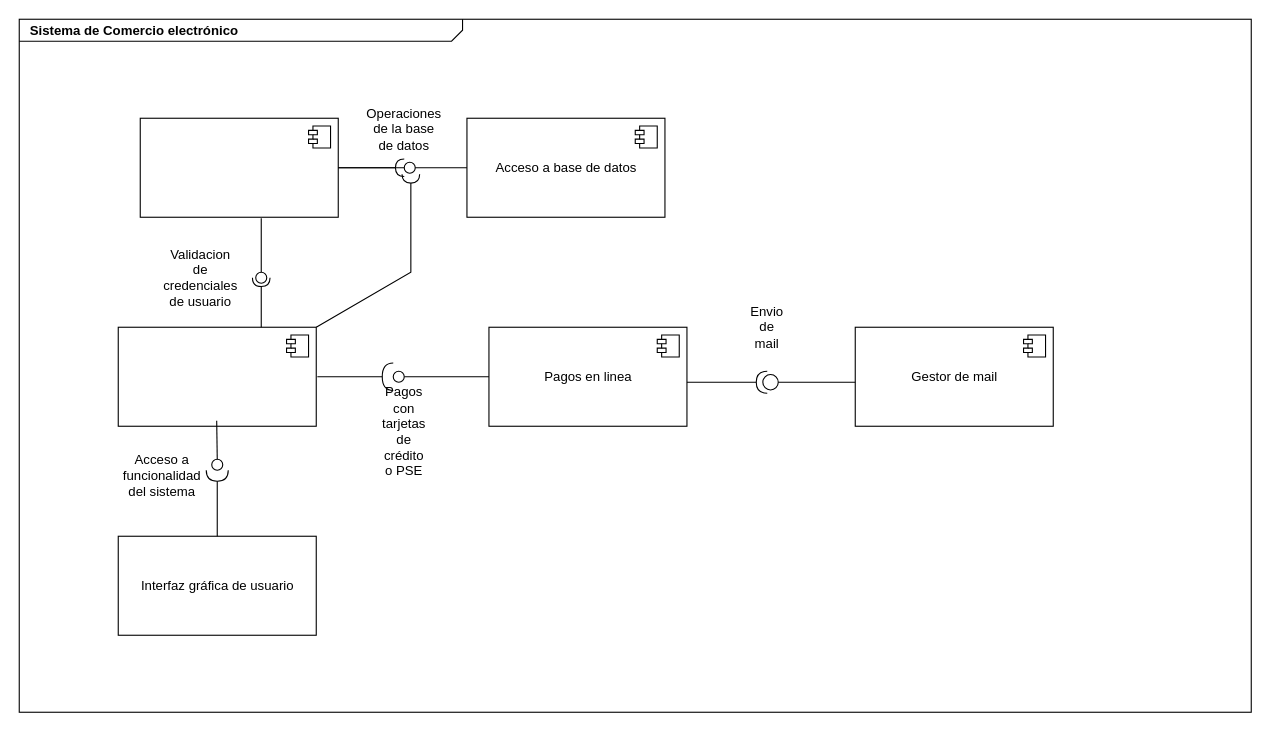
This 1271x732 diagram has some shape labels left out. Here are the shapes that lost their labels. From the top down, the centre of each, then its label:
pixel 238 167: Autentificacion
pixel 216 376: Lógica de negocio
